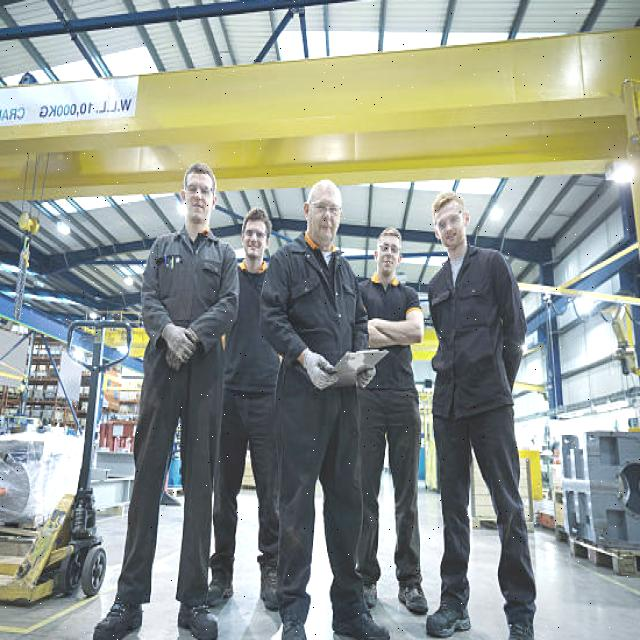Gloves: (162, 323, 199, 370), (303, 349, 338, 389)
No Hardhat: (183, 162, 217, 193), (242, 206, 272, 239), (431, 191, 464, 221), (307, 180, 342, 204), (378, 226, 402, 245)
No Overall Suit: (211, 262, 279, 573), (359, 345, 421, 586), (360, 275, 419, 321)
Overall Suit: (260, 234, 367, 624), (430, 247, 535, 622), (117, 342, 222, 606), (142, 226, 239, 352)
Safety Boots: (93, 602, 142, 640), (332, 611, 391, 640), (425, 602, 471, 638), (178, 603, 218, 640), (208, 571, 233, 607), (399, 585, 428, 614), (260, 564, 278, 610), (281, 620, 307, 640), (509, 624, 535, 640), (363, 583, 378, 609)
